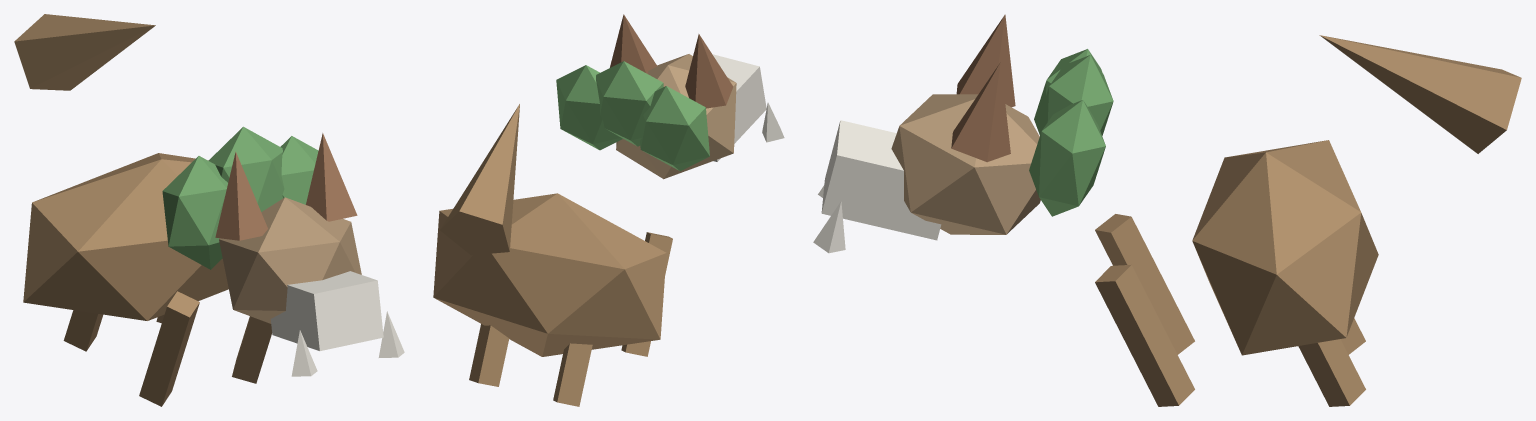
The model's file is npcpose_wolf_attack_07.glb.
The picture shows the model from 3 angles, left to right: view 1: azimuth 30°, elevation 25°; view 2: azimuth 150°, elevation 25°; view 3: azimuth 270°, elevation 25°; orthographic projection. The views are drawn at different scales.
Visible parts, largest first — view 1: npcpose; view 2: npcpose; view 3: npcpose.
Boxes of the visible parts, x1=… form: npcpose: x1=14, y1=14, x2=404, y2=406; npcpose: x1=433, y1=14, x2=784, y2=406; npcpose: x1=813, y1=14, x2=1521, y2=406.
Bounding box in the file's own units: 0.8873 × 1.06 × 1.91.
